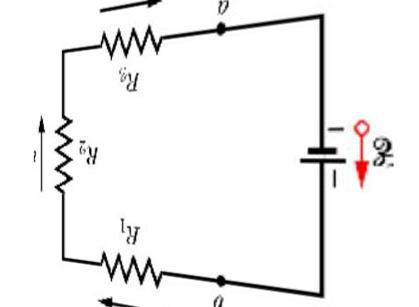resistor: (91, 14, 174, 65), (88, 247, 177, 286), (47, 110, 78, 196)
